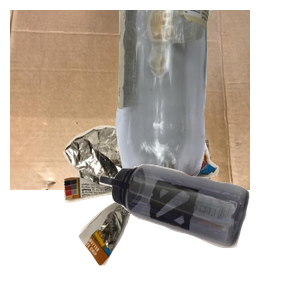cardboard: (10, 10, 250, 190)
glass: (113, 10, 300, 190)
plastic: (97, 162, 300, 300)
trash: (61, 123, 273, 300)
